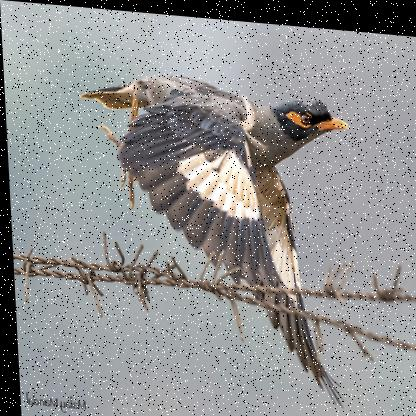Burung: (76, 63, 359, 405)
